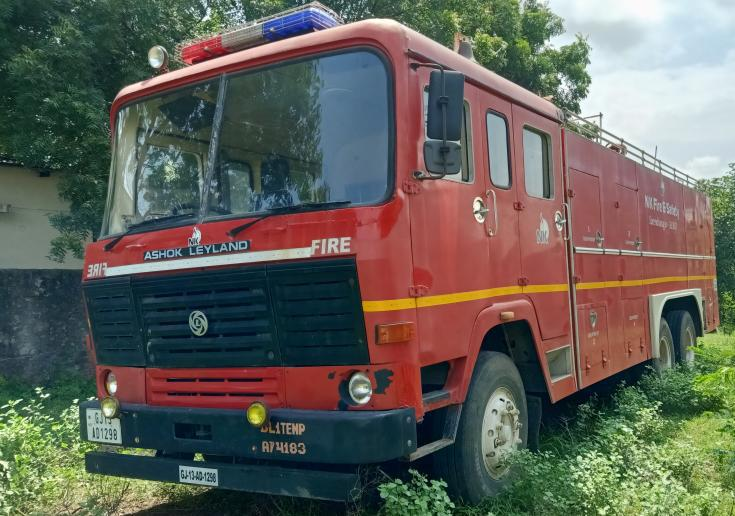fire engine: (91, 26, 725, 498)
numberplate: (173, 463, 227, 492)
